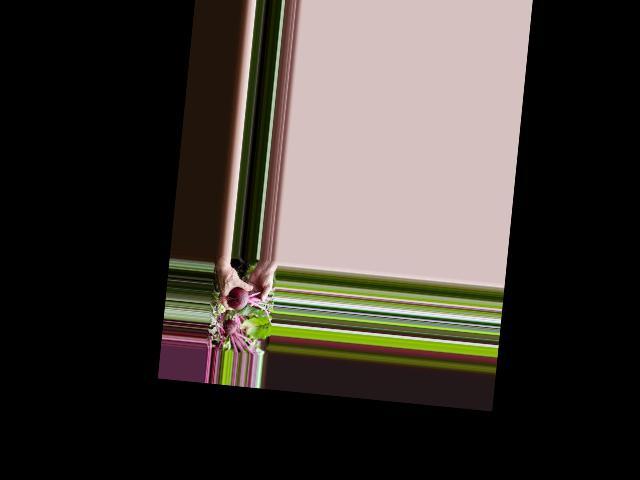beet: (225, 285, 274, 325)
